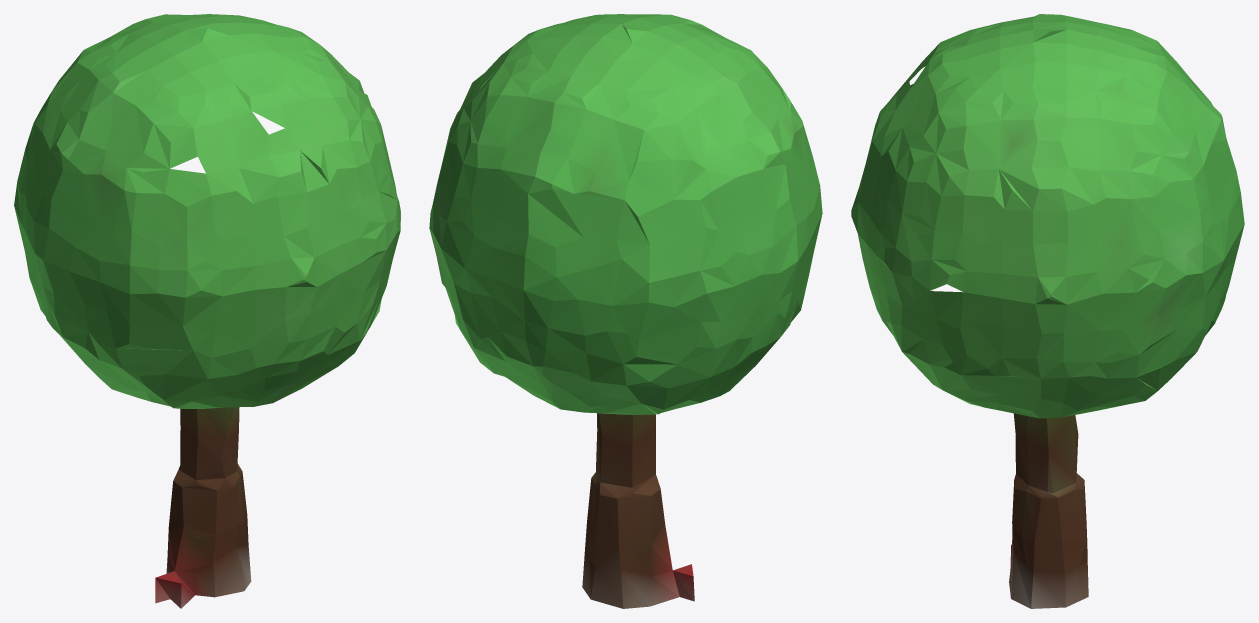
The model's file is m-agujero-arbol.glb.
3 renders of one model, left to right at view 1: azimuth 30°, elevation 25°; view 2: azimuth 150°, elevation 25°; view 3: azimuth 270°, elevation 25°, orthographic.
Bounding box in the file's own units: 1.13 × 1.78 × 1.13.
